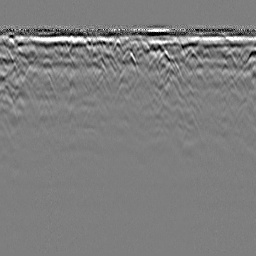cavity: (120, 48, 136, 67)
